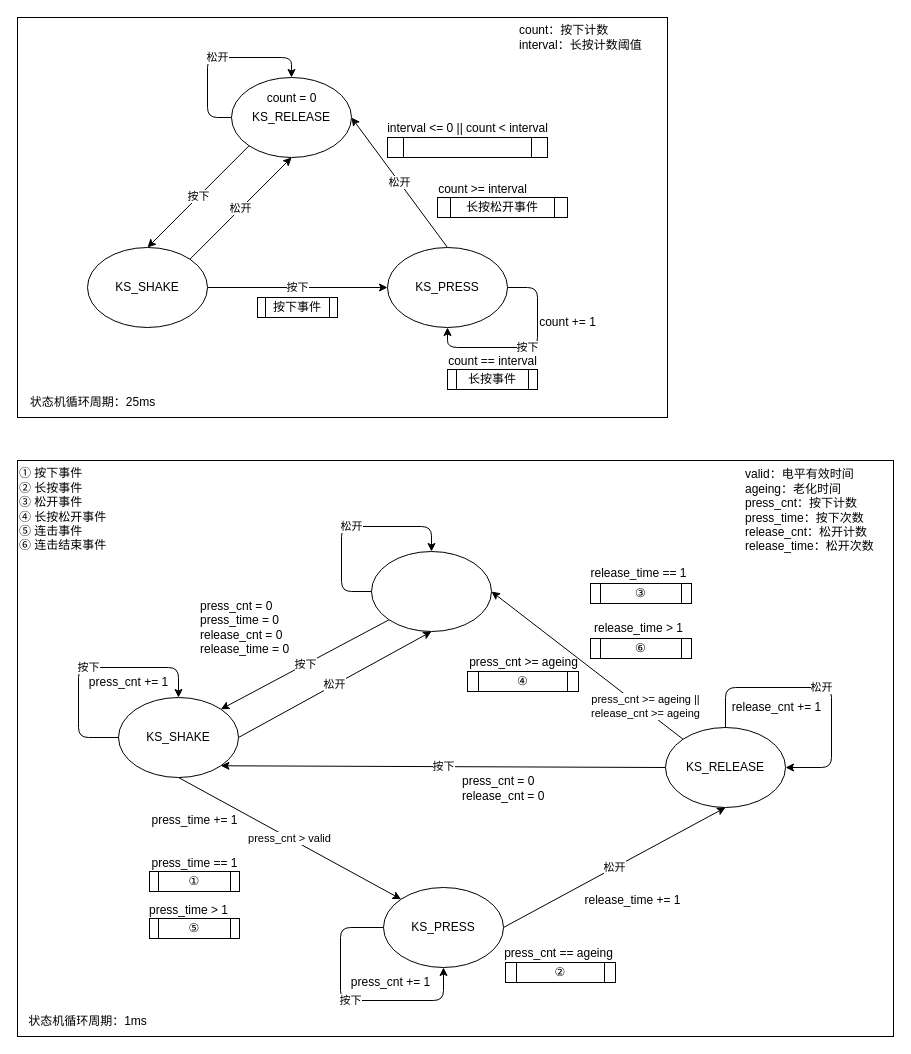
This 911x1054 diagram has some shape labels left out. Each missing label, with the centre of its shape:
KS_NONE: the point at 431,591
松开事件: the point at 467,147
